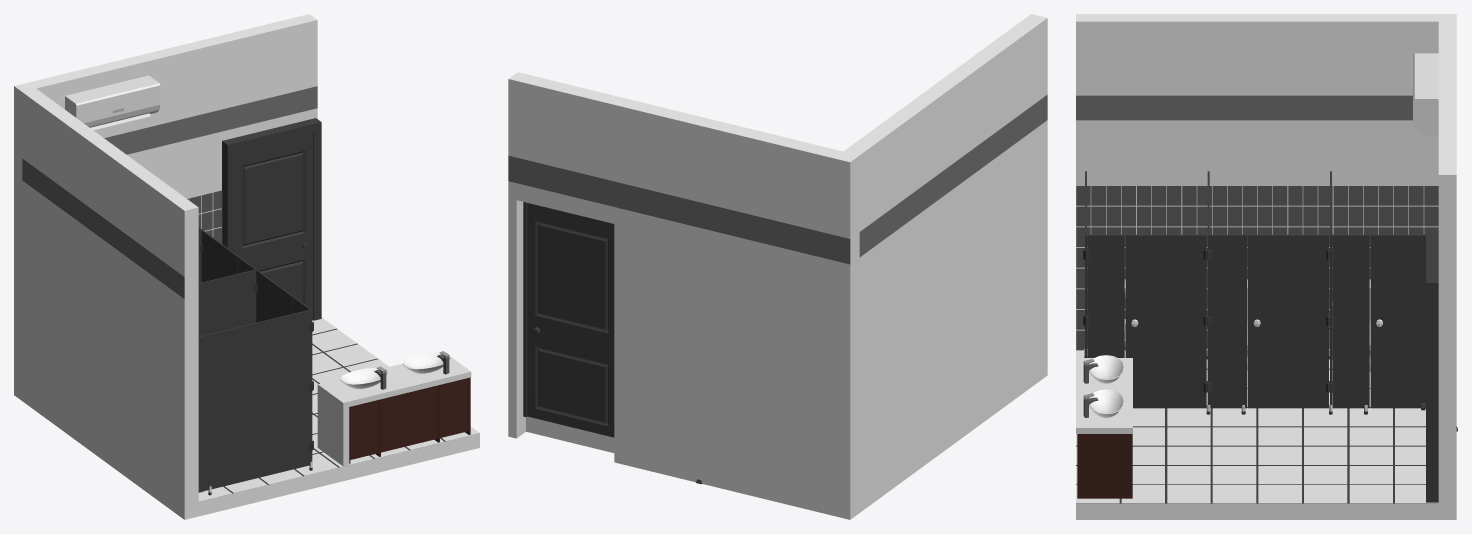
The model's file is room_3.glb.
3 renders of one model, left to right at view 1: azimuth 30°, elevation 25°; view 2: azimuth 150°, elevation 25°; view 3: azimuth 270°, elevation 25°, orthographic. The views are drawn at different scales.
Visible parts, largest first — view 1: Walls_006.020, door_028.003, Walls_006.037, Walls_006.036, bathroom_item_010.001, door_019.001, floor_014.011, Walls_011.018, Walls_046.020, door_028.002, door_020.001, Walls_006.019 (+4 smaller); view 2: Walls_006.019, Walls_006.020, Walls_006.037, Walls_006.036, door_019.001, Walls_046.020, Walls_046.019, Walls_006.021, Walls_006.022, Walls_011.018, door_020.001; view 3: Walls_006.036, floor_014.011, Walls_006.020, door_028.002, door_028.003, door_028.001, Walls_011.018, Walls_046.019, bathroom_item_010.001, floor_009.005, floor_009.004, floor_009.003 (+5 smaller).
Boxes of the visible parts, x1,y1,x2,y2 form: Walls_006.020: (14,174,198,519); door_028.003: (198,270,313,495); Walls_006.037: (28,14,317,137); Walls_006.036: (14,82,198,276); bathroom_item_010.001: (317,351,471,466); door_019.001: (235,132,312,319); floor_014.011: (198,317,479,501); Walls_011.018: (198,328,479,516); Walls_046.020: (14,86,317,179); door_028.002: (198,230,256,336); door_020.001: (222,118,321,320); Walls_006.019: (127,130,225,236); Walls_006.019: (614,207,833,515); Walls_006.020: (834,120,1047,519); Walls_006.037: (508,72,842,234); Walls_006.036: (834,14,1047,238); door_019.001: (527,203,614,437); Walls_046.020: (508,155,859,264); Walls_046.019: (859,95,1047,257); Walls_006.021: (508,181,525,438); Walls_006.022: (516,183,614,223); Walls_011.018: (526,416,614,452); door_020.001: (523,202,527,416); Walls_006.036: (1076,14,1456,95); floor_014.011: (1076,350,1438,503); Walls_006.020: (1076,120,1438,349); door_028.002: (1206,171,1331,414); door_028.003: (1083,171,1208,408); door_028.001: (1329,171,1457,431); Walls_011.018: (1076,368,1438,519); Walls_046.019: (1076,95,1412,120); bathroom_item_010.001: (1076,355,1132,498); floor_009.005: (1076,186,1196,350); floor_009.004: (1197,186,1317,348); floor_009.003: (1318,186,1438,314).
Bounding box in the file's own units: 4.2 × 4.2 × 4.21.
Materials: 1 (1 with a texture image).
